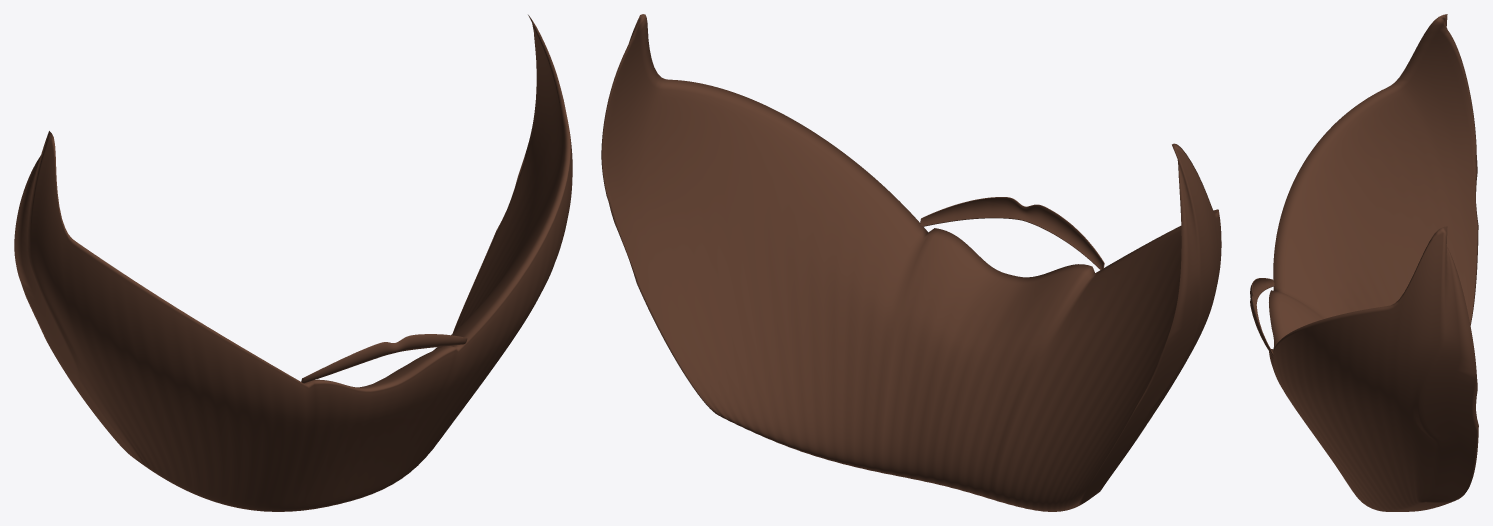
File: Masculine-groom-long.glb
The picture shows the model from 3 angles, left to right: view 1: azimuth 30°, elevation 25°; view 2: azimuth 150°, elevation 25°; view 3: azimuth 270°, elevation 25°; orthographic projection. The views are drawn at different scales.
Parts seen in each view (by area): view 1: Groom / long shaped187, Groom / shared mustache185; view 2: Groom / long shaped187, Groom / shared mustache185; view 3: Groom / long shaped187, Groom / shared mustache185.
Part boxes in pixels (x1,y1,x2,y2): Groom / long shaped187: (14, 15, 572, 511); Groom / shared mustache185: (301, 334, 467, 383); Groom / long shaped187: (601, 14, 1221, 511); Groom / shared mustache185: (920, 197, 1104, 269); Groom / long shaped187: (1269, 14, 1478, 511); Groom / shared mustache185: (1250, 278, 1274, 356).
Size of the model in its own units: 0.9541 by 0.6843 by 0.3963.
